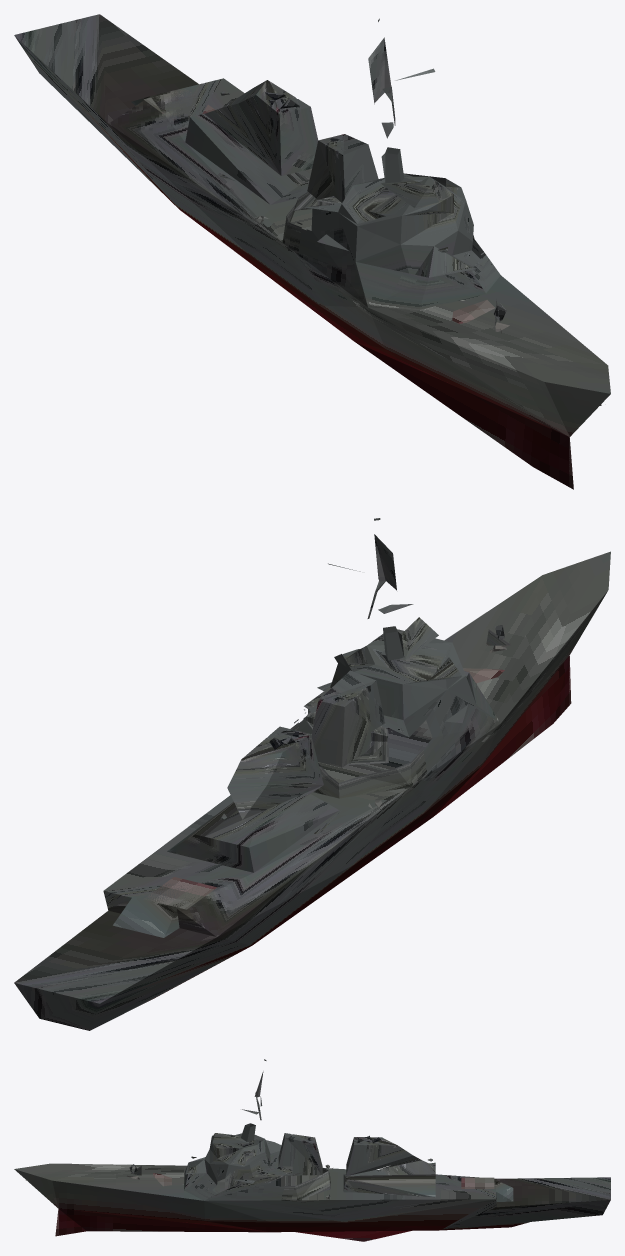
The picture shows the model from 3 angles, top to bottom: view 1: azimuth 30°, elevation 25°; view 2: azimuth 150°, elevation 25°; view 3: azimuth 270°, elevation 25°; orthographic projection. The views are drawn at different scales.
Parts seen in each view (by area): view 1: Object_4; view 2: Object_4; view 3: Object_4.
Boxes of the visible parts, x1=… form: Object_4: x1=14, y1=14, x2=610, y2=489; Object_4: x1=14, y1=518, x2=610, y2=1030; Object_4: x1=14, y1=1059, x2=610, y2=1241.
Size of the model in its own units: 23.28 by 50.1 by 153.
Materials: 1 (1 with a texture image).
